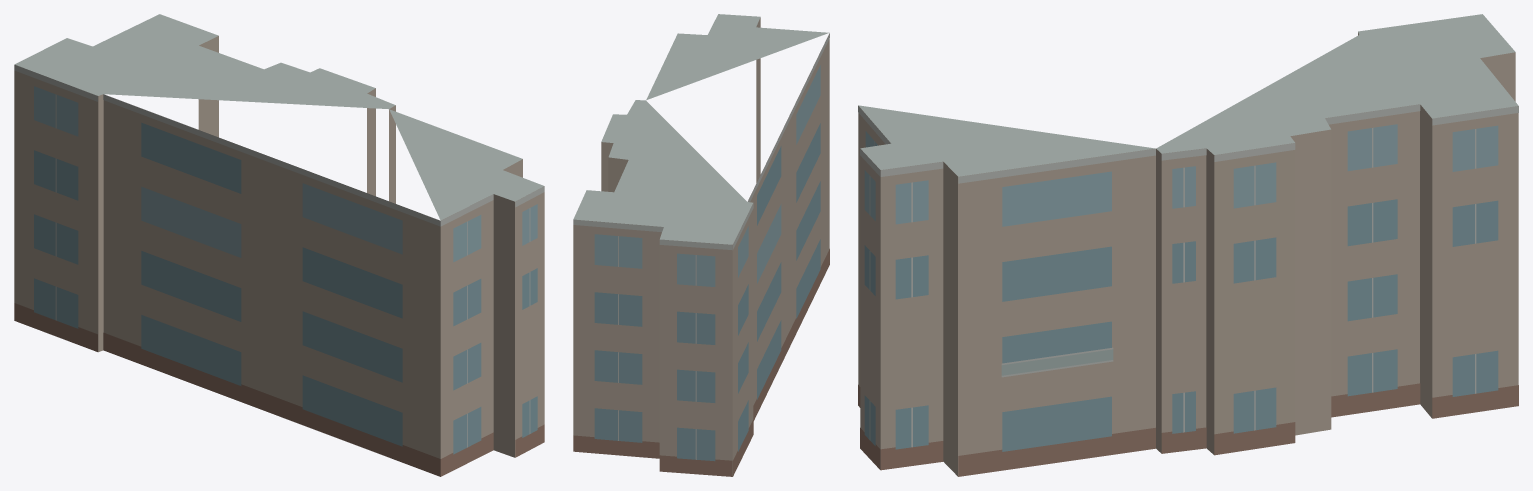
Rendered from survey-upis-32519797.glb.
3 renders of one model, left to right at view 1: azimuth 30°, elevation 25°; view 2: azimuth 150°, elevation 25°; view 3: azimuth 270°, elevation 25°, orthographic. The views are drawn at different scales.
Visible parts, largest first — view 1: survey-upis-32519797.tmp; view 2: survey-upis-32519797.tmp; view 3: survey-upis-32519797.tmp.
Part boxes in pixels (x1=…): survey-upis-32519797.tmp: x1=14, y1=14, x2=544, y2=476; survey-upis-32519797.tmp: x1=573, y1=14, x2=829, y2=476; survey-upis-32519797.tmp: x1=858, y1=14, x2=1518, y2=476.
Size of the model in its own units: 12.22 by 10.5 by 20.96.
